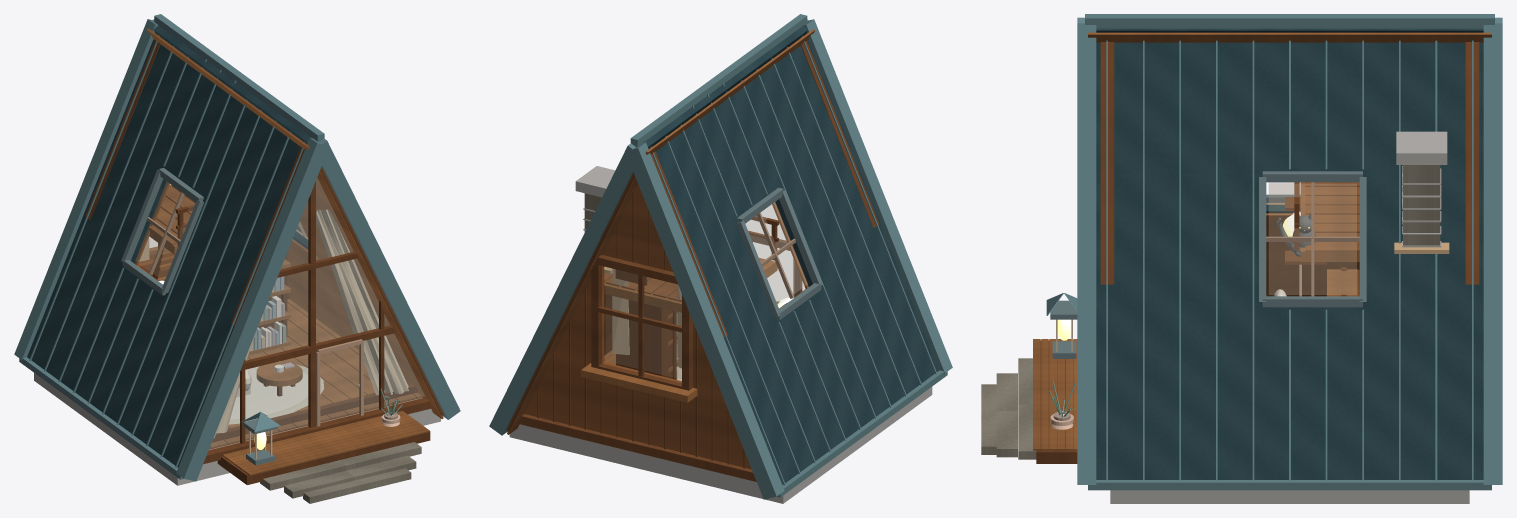
The model's file is MiFiL_Aframe_Dream_House_v11.glb.
The picture shows the model from 3 angles, left to right: view 1: azimuth 30°, elevation 25°; view 2: azimuth 150°, elevation 25°; view 3: azimuth 270°, elevation 25°; orthographic projection. The views are drawn at different scales.
Parts seen in each view (by area): view 1: roof_panels__roof_slate, PROJECT_livemo_glass__glass, roof_fascia__roof_trim, roof_seams__roof_trim, roof_underlay__interior_wood, floor_planks__oak, steps__stone, curtains__linen, PROJECT_livemo_mullions__walnut, porch_planks__oak, gable_frames__walnut, PROJECT_playable_letter_frame__metal_black (+14 smaller); view 2: roof_panels__roof_slate, roof_fascia__roof_trim, rear_gable__cedar, roof_seams__roof_trim, PROJECT_feel_glass__glass_warm, base__stone_dark, gable_frames__walnut, roof_underlay__interior_wood, PROJECT_feel_frame__walnut, rear_board_seams__walnut, PROJECT_playable_letter_frame__metal_black, bookshelf__walnut (+12 smaller); view 3: roof_panels__roof_slate, roof_fascia__roof_trim, roof_seams__roof_trim, PROJECT_our_quest_glass__glass_warm, roof_underlay__interior_wood, gable_frames__walnut, roof_ridge__roof_trim, base__stone_dark, steps__stone, roof_eaves__roof_trim, PROJECT_our_quest_frame__metal_black, porch_planks__oak (+9 smaller).
Part boxes in pixels (left/top/right/bottom): roof_panels__roof_slate: left=27, top=25, right=316, bottom=467; PROJECT_livemo_glass__glass: left=209, top=178, right=424, bottom=448; roof_fascia__roof_trim: left=14, top=19, right=460, bottom=481; roof_seams__roof_trim: left=29, top=35, right=305, bottom=467; roof_underlay__interior_wood: left=134, top=28, right=443, bottom=418; floor_planks__oak: left=209, top=299, right=422, bottom=449; steps__stone: left=260, top=442, right=421, bottom=503; curtains__linen: left=214, top=209, right=408, bottom=437; PROJECT_livemo_mullions__walnut: left=240, top=181, right=396, bottom=443; porch_planks__oak: left=222, top=411, right=429, bottom=475; gable_frames__walnut: left=85, top=37, right=432, bottom=463; PROJECT_playable_letter_frame__metal_black: left=121, top=168, right=203, bottom=295; roof_panels__roof_slate: left=643, top=26, right=939, bottom=484; roof_fascia__roof_trim: left=489, top=19, right=952, bottom=499; rear_gable__cedar: left=519, top=184, right=756, bottom=481; roof_seams__roof_trim: left=650, top=36, right=937, bottom=484; PROJECT_feel_glass__glass_warm: left=606, top=267, right=681, bottom=378; base__stone_dark: left=509, top=387, right=932, bottom=503; gable_frames__walnut: left=518, top=36, right=878, bottom=481; roof_underlay__interior_wood: left=507, top=29, right=814, bottom=434; PROJECT_feel_frame__walnut: left=591, top=255, right=692, bottom=390; rear_board_seams__walnut: left=537, top=191, right=745, bottom=468; PROJECT_playable_letter_frame__metal_black: left=736, top=187, right=822, bottom=320; bookshelf__walnut: left=616, top=300, right=676, bottom=379; roof_panels__roof_slate: left=1096, top=28, right=1483, bottom=479; roof_fascia__roof_trim: left=1077, top=17, right=1502, bottom=484; roof_seams__roof_trim: left=1106, top=40, right=1473, bottom=480; PROJECT_our_quest_glass__glass_warm: left=1269, top=184, right=1356, bottom=294; roof_underlay__interior_wood: left=1088, top=32, right=1491, bottom=296; gable_frames__walnut: left=1100, top=42, right=1479, bottom=284; roof_ridge__roof_trim: left=1085, top=14, right=1494, bottom=28; base__stone_dark: left=1110, top=490, right=1469, bottom=503; steps__stone: left=981, top=358, right=1036, bottom=459; roof_eaves__roof_trim: left=1088, top=480, right=1491, bottom=490; PROJECT_our_quest_frame__metal_black: left=1259, top=171, right=1366, bottom=307; porch_planks__oak: left=1033, top=339, right=1077, bottom=450.
Size of the model in its own units: 5.26 by 5.92 by 6.84.
Materials: 38 (7 with a texture image).
